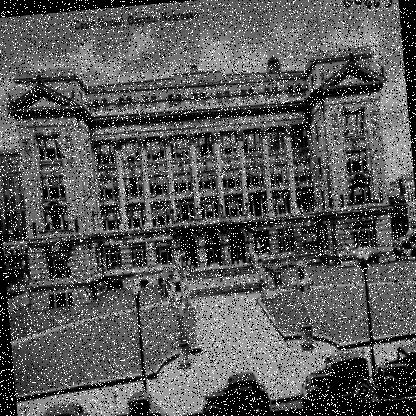Car: (298, 348, 372, 408), (198, 369, 271, 415), (370, 340, 415, 403), (104, 387, 168, 415), (22, 401, 94, 415)
